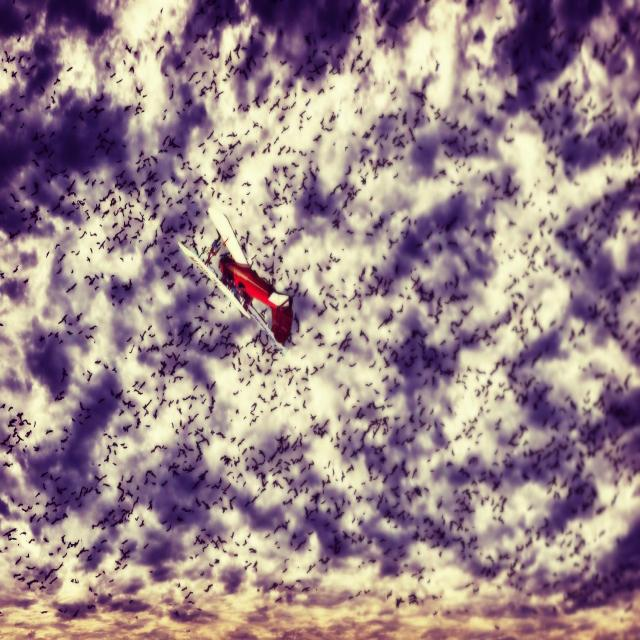airplane: (177, 205, 294, 348)
